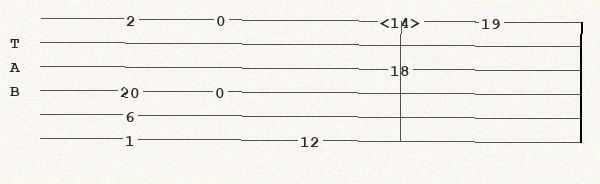0: (215, 13, 229, 27), (215, 85, 229, 99)
1: (125, 133, 139, 147)
12: (300, 133, 324, 147)
18: (390, 61, 414, 75)
19: (480, 13, 504, 27)
2: (125, 13, 139, 27)
20: (120, 85, 144, 99)
6: (125, 109, 139, 123)
harmonic: (379, 13, 424, 27)
